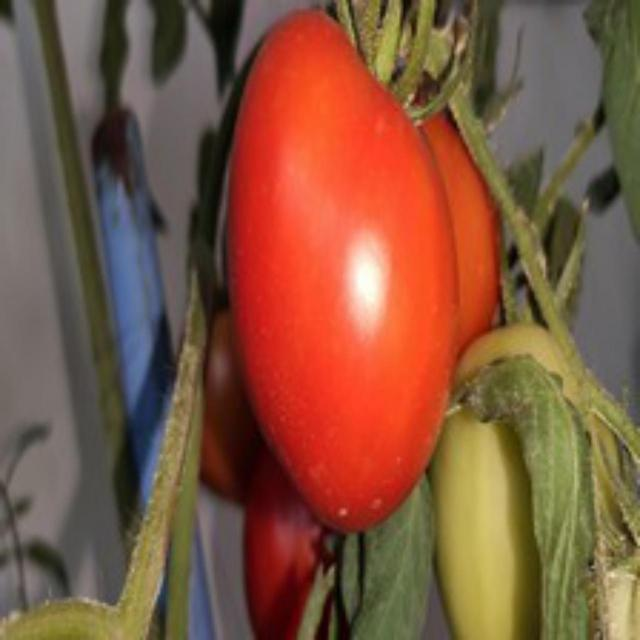tomato: (225, 0, 473, 547)
